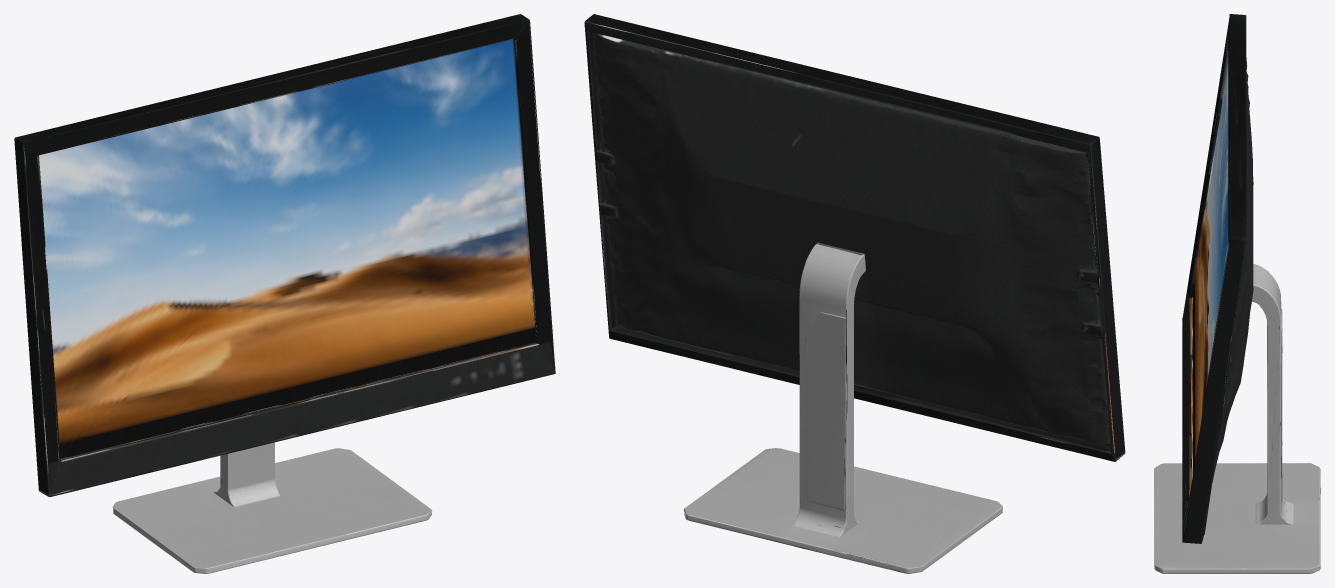
The model's file is Monitor.fbx.
The picture shows the model from 3 angles, left to right: view 1: azimuth 30°, elevation 25°; view 2: azimuth 150°, elevation 25°; view 3: azimuth 270°, elevation 25°; orthographic projection. The views are drawn at different scales.
Parts seen in each view (by area): view 1: Mesh_0; view 2: Mesh_0; view 3: Mesh_0.
Boxes of the visible parts, left/top/right/bottom form: Mesh_0: left=14, top=14, right=555, bottom=573; Mesh_0: left=584, top=14, right=1125, bottom=573; Mesh_0: left=1154, top=14, right=1320, bottom=573.
Bounding box in the file's own units: 94.83 × 77.93 × 29.64.
Materials: 1 (1 with a texture image).
